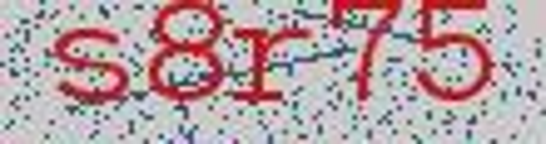5: (410, 1, 501, 129)
7: (329, 1, 410, 125)
8: (143, 1, 227, 122)
r: (229, 11, 321, 128)
s: (50, 14, 136, 116)
